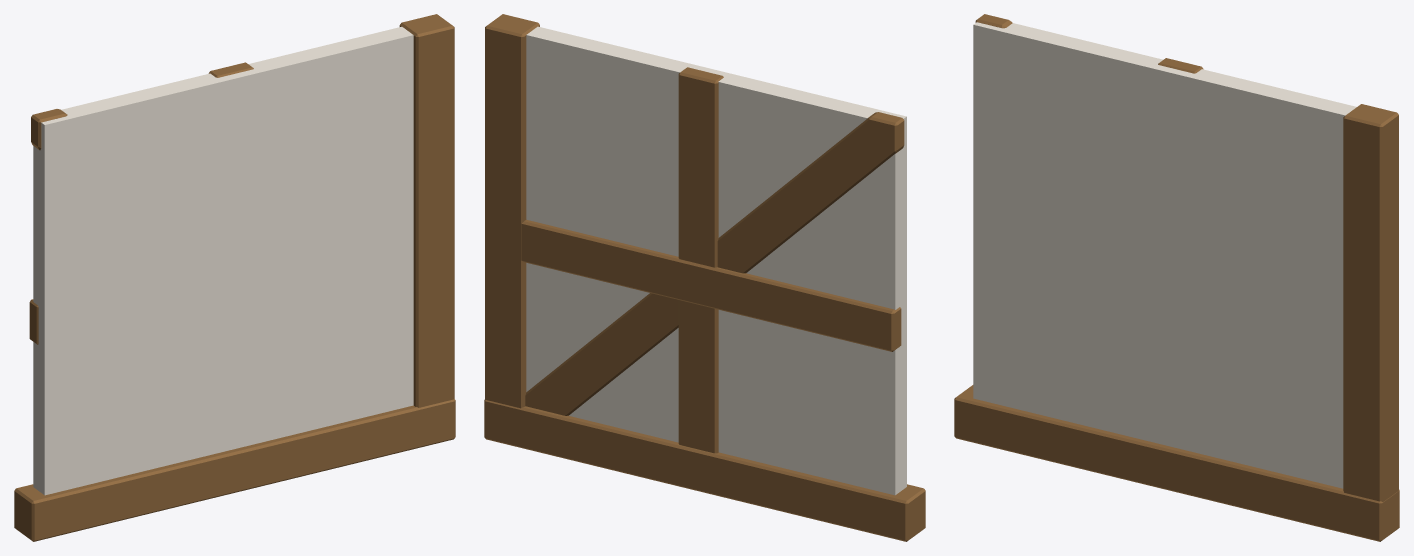
The model's file is WallCrossV.fbx.
The picture shows the model from 3 angles, left to right: view 1: azimuth 30°, elevation 25°; view 2: azimuth 150°, elevation 25°; view 3: azimuth 330°, elevation 25°; orthographic projection.
Visible parts, largest first — view 1: WallCrossV, Cube.045, Cube.041, Cube.044; view 2: WallCrossV, Cube.045, Cube.044, Cube.043, Cube.041, Cube.039; view 3: WallCrossV, Cube.041, Cube.045.
Boxes of the visible parts, x1,y1,x2,y2 form: WallCrossV: (33, 26, 413, 495); Cube.045: (14, 399, 455, 541); Cube.041: (399, 14, 454, 407); Cube.044: (31, 109, 67, 150); WallCrossV: (526, 26, 906, 495); Cube.045: (484, 399, 925, 541); Cube.044: (525, 112, 904, 415); Cube.043: (521, 219, 901, 351); Cube.041: (485, 14, 539, 408); Cube.039: (678, 67, 723, 453); WallCrossV: (973, 22, 1356, 488); Cube.041: (1343, 104, 1398, 501); Cube.045: (954, 385, 1399, 541).
Bounding box in the file's own units: 216 × 202 × 17.27.
